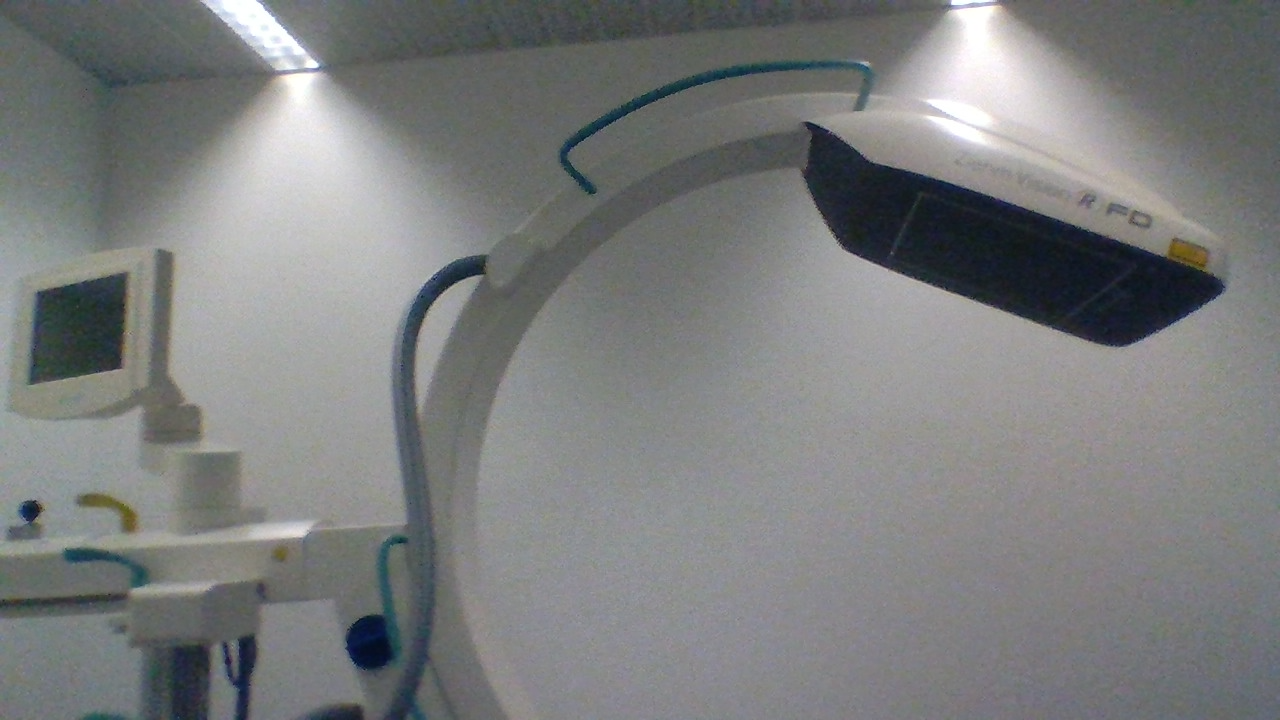carmLOCK: (344, 612, 396, 671)
carmSCREEN: (10, 247, 173, 419)
carmUP: (804, 104, 1233, 354)
